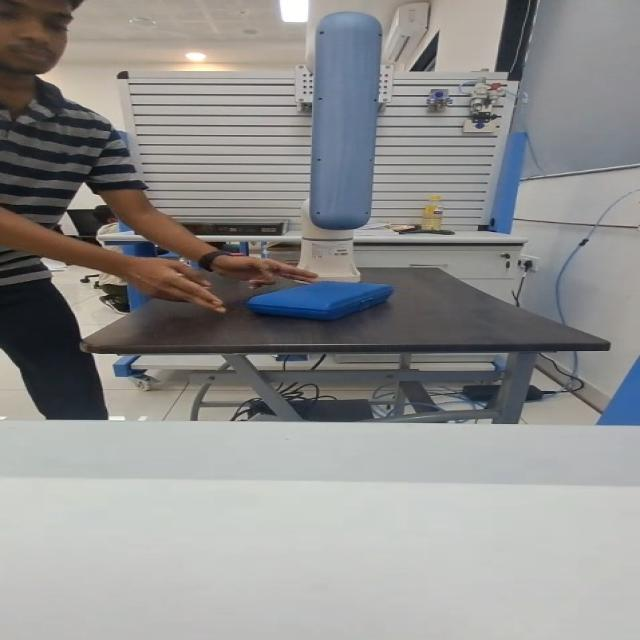top-surface: (274, 284, 367, 299)
